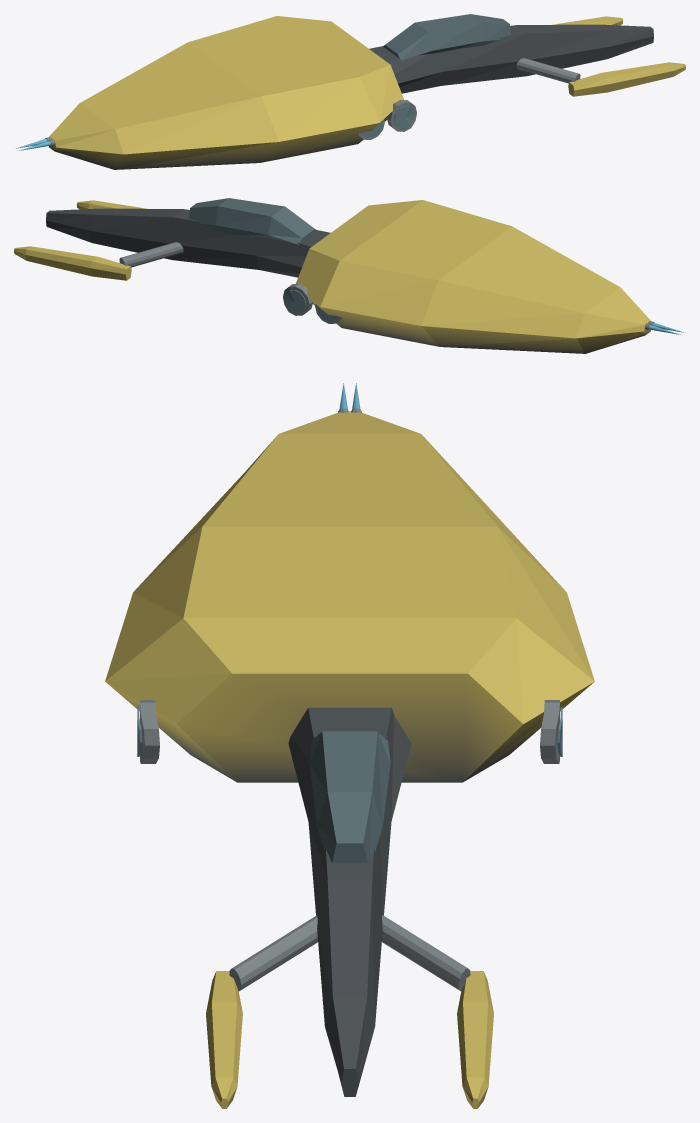
The model's file is opal_jet_yellow_flight.glb.
The picture shows the model from 3 angles, top to bottom: view 1: azimuth 30°, elevation 25°; view 2: azimuth 150°, elevation 25°; view 3: azimuth 270°, elevation 25°; orthographic projection. The views are drawn at different scales.
Parts seen in each view (by area): view 1: rear_lower_hull_0, front_spar_1, cockpit_shell_2, forward_pods_5, outrigger_support_4, side_thruster_face_7, side_thruster_casing_6; view 2: rear_lower_hull_0, front_spar_1, cockpit_shell_2, forward_pods_5, outrigger_support_4, side_thruster_face_7, side_thruster_casing_6; view 3: rear_lower_hull_0, front_spar_1, cockpit_shell_2, forward_pods_5, outrigger_support_4, side_thruster_casing_6.
Part boxes in pixels (x1=…): rear_lower_hull_0: x1=49, y1=16, x2=403, y2=169; front_spar_1: x1=369, y1=24, x2=653, y2=93; cockpit_shell_2: x1=383, y1=14, x2=510, y2=60; forward_pods_5: x1=552, y1=16, x2=685, y2=96; outrigger_support_4: x1=516, y1=58, x2=580, y2=83; side_thruster_face_7: x1=361, y1=106, x2=415, y2=137; side_thruster_casing_6: x1=358, y1=100, x2=416, y2=139; rear_lower_hull_0: x1=296, y1=200, x2=650, y2=353; front_spar_1: x1=46, y1=208, x2=330, y2=277; cockpit_shell_2: x1=189, y1=198, x2=316, y2=244; forward_pods_5: x1=14, y1=200, x2=147, y2=280; outrigger_support_4: x1=119, y1=242, x2=183, y2=267; side_thruster_face_7: x1=284, y1=290, x2=338, y2=321; side_thruster_casing_6: x1=283, y1=284, x2=342, y2=323; rear_lower_hull_0: x1=105, y1=412, x2=594, y2=782; front_spar_1: x1=288, y1=707, x2=411, y2=1096; cockpit_shell_2: x1=309, y1=731, x2=390, y2=863; forward_pods_5: x1=206, y1=971, x2=493, y2=1108; outrigger_support_4: x1=229, y1=915, x2=470, y2=991; side_thruster_casing_6: x1=140, y1=700, x2=559, y2=763.
Bounding box in the file's own units: 10.53 × 1.33 × 3.5.
